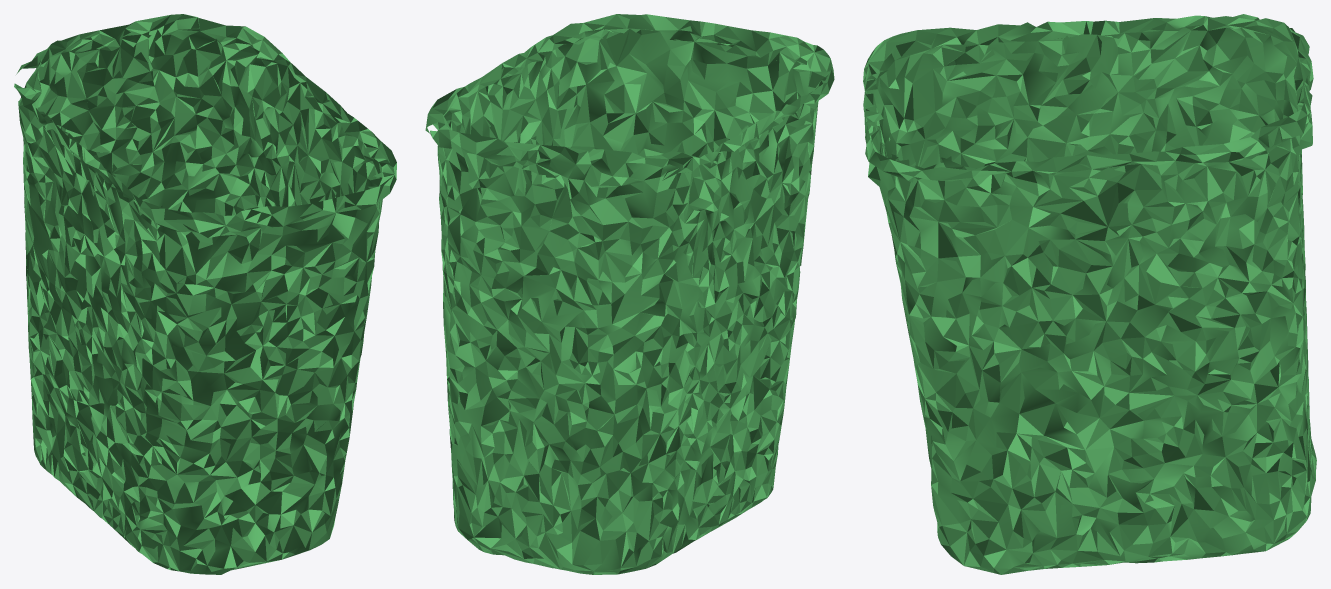
The model's file is g1_04_large_object_props.glb.
3 renders of one model, left to right at view 1: azimuth 30°, elevation 25°; view 2: azimuth 150°, elevation 25°; view 3: azimuth 270°, elevation 25°, orthographic. The views are drawn at different scales.
Visible parts, largest first — view 1: o00; view 2: o00; view 3: o00.
Boxes of the visible parts, x1,y1,x2,y2 form: o00: (14, 14, 396, 574); o00: (425, 14, 834, 574); o00: (863, 14, 1316, 574).
Size of the model in its own units: 0.1487 by 0.2469 by 0.2121.
